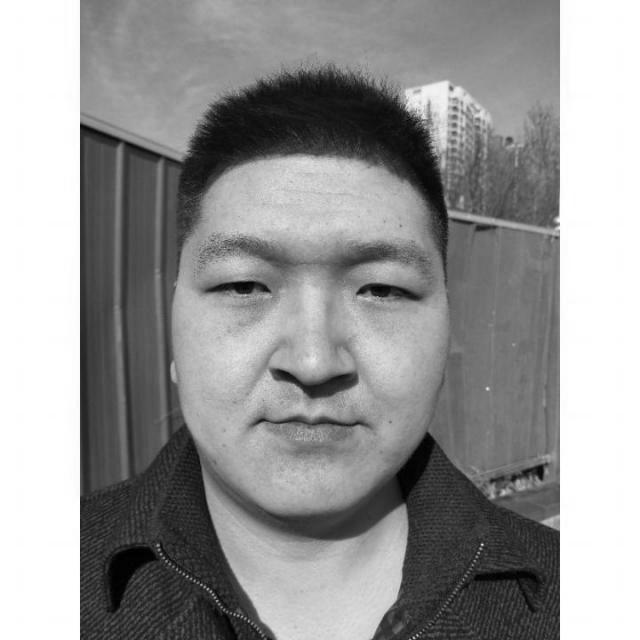real: (164, 65, 458, 523)
